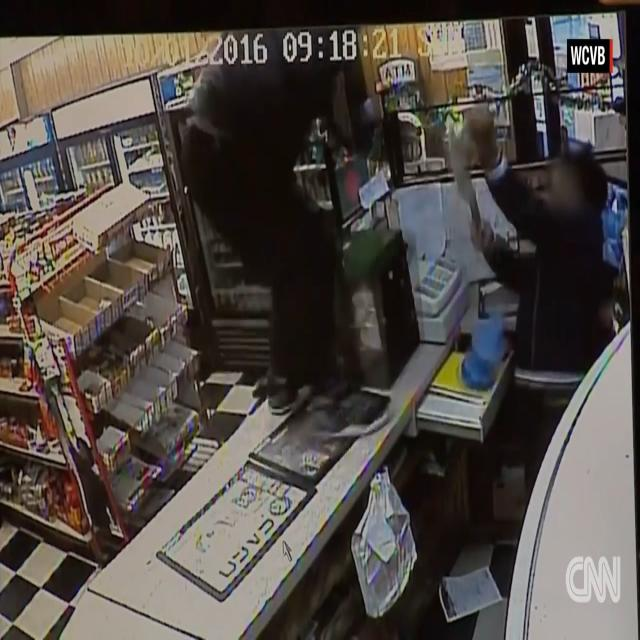Sharp-Object: (442, 116, 483, 238)
